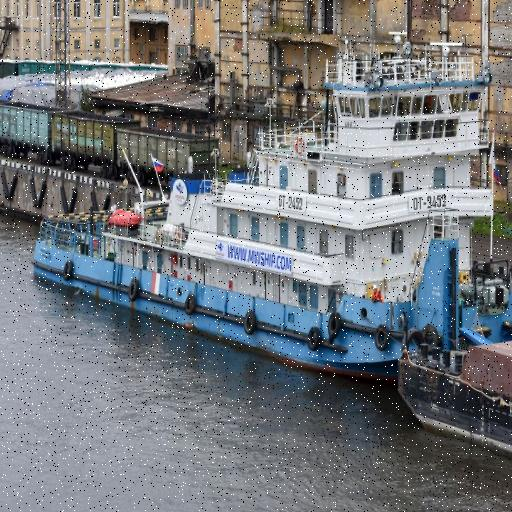tugboat: (29, 28, 512, 399)
